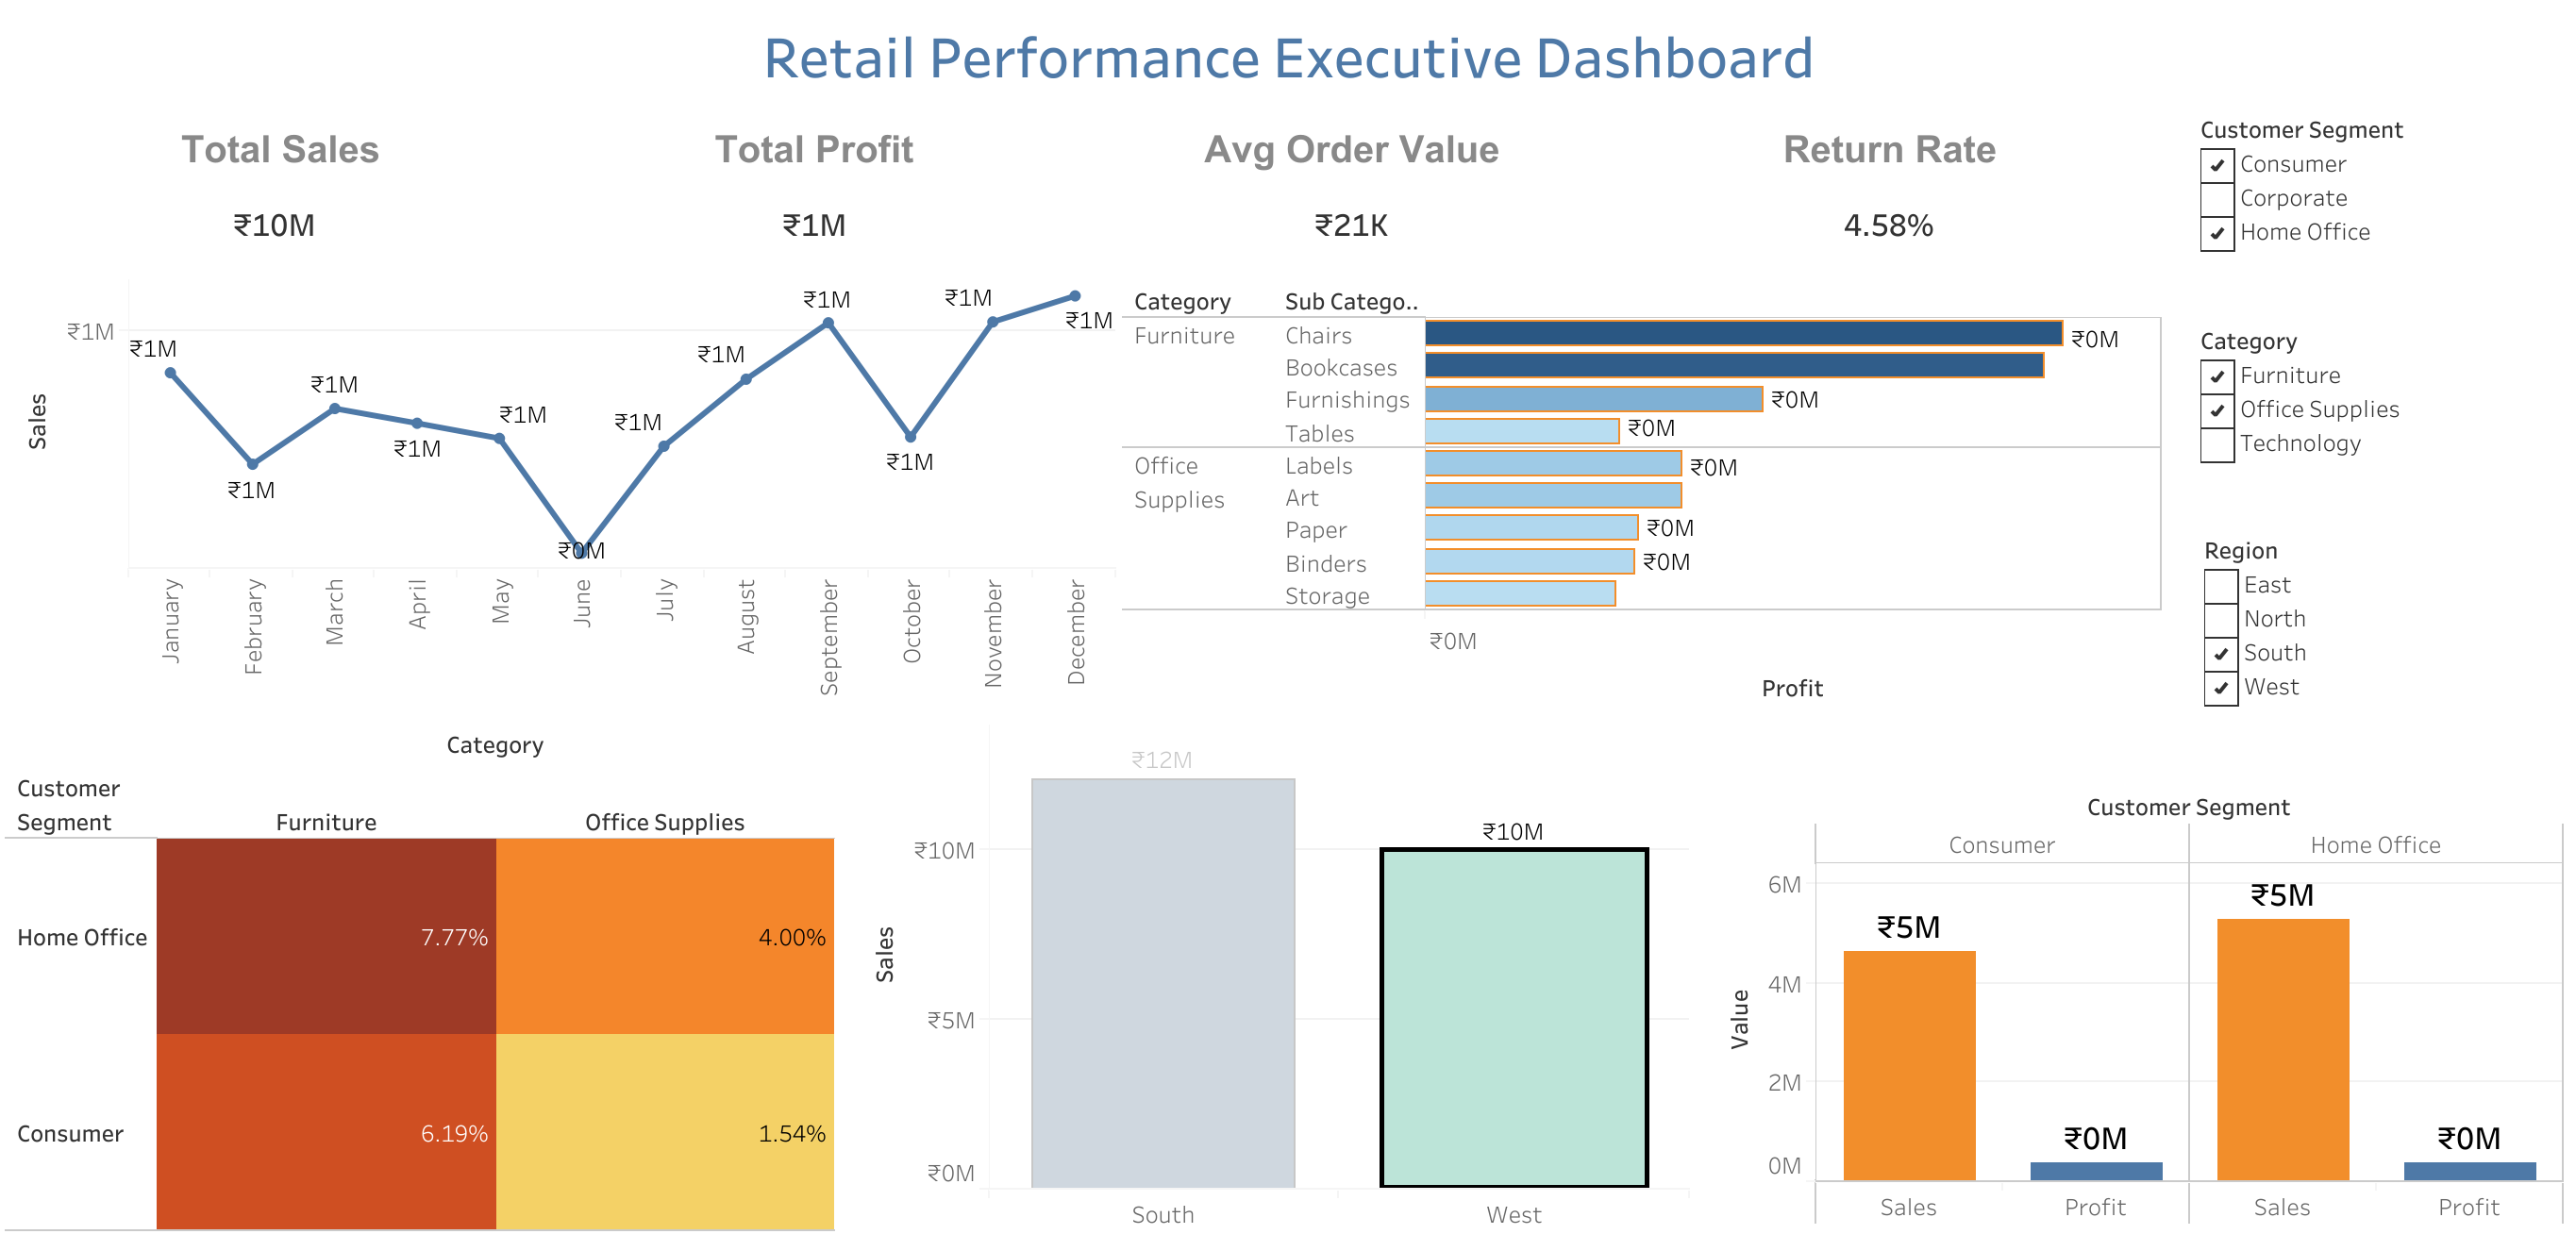

This screenshot's page, from the dashboard's own definition file:
{"tool":"tableau","page":{"name":"Executive Dashboard","canvas":[1000,1000],"units":"permille","ordinal":0},"visuals":[{"type":"title","box":[6.7,12.4,986.6,61.8]},{"type":"worksheet","title":"KPI - Total Sales","mark":"Automatic","box":[2.5,86.8,208.7,130.2]},{"type":"worksheet","title":"KPI - Total Profit","mark":"Automatic","box":[211.2,86.8,208.7,130.2]},{"type":"worksheet","title":"KPI - Average Order Value","mark":"Automatic","box":[419.9,86.8,208.7,130.2]},{"type":"worksheet","title":"KPI - Return Rate","mark":"Automatic","box":[628.6,86.8,208.7,130.2]},{"type":"filter","title":"Customer Segment View","param":"[federated.09ailrv18ro01p176qs0s0siuccw].[none:customer_segment:nk]","box":[853.3,88.4,134.1,162.8]},{"type":"worksheet","title":"Sales Trend View","mark":"Line","rows":["sales"],"cols":["order_date"],"box":[2.5,226.4,430,355]},{"type":"worksheet","title":"Category Profitability View","mark":"Automatic","rows":["category","sub_category"],"cols":["profit"],"box":[435.9,226.4,403.2,355]},{"type":"filter","title":"Return Analysis View","param":"[federated.09ailrv18ro01p176qs0s0siuccw].[none:category:nk]","box":[853.3,258.9,134.1,165.9]},{"type":"filter","title":"Regional Performance View","param":"[federated.09ailrv18ro01p176qs0s0siuccw].[none:region:nk]","box":[855,429.5,133.3,193.8]},{"type":"worksheet","title":"Return Analysis View","mark":"Square","rows":["customer_segment"],"cols":["category"],"box":[2.5,586.1,321.9,410.9]},{"type":"worksheet","title":"Regional Performance View","mark":"Bar","rows":["sales"],"cols":["region"],"box":[331.1,586.1,324.4,409.3]},{"type":"worksheet","title":"Customer Segment View","mark":"Automatic","cols":["customer_segment"],"box":[662.2,637.2,332.8,353.5]}]}

Visuals, with their boxes on the dashboard's canvas, which has no fixed pixel size, in thousandths of its width and height (x1, y1, x2, y2). These are canvas units, not pixel positions in the 2576x1234 screenshot, which may show the page scaled, cropped or inside an application window:
title: select_region(7, 12, 993, 74)
"KPI - Total Sales" worksheet: select_region(2, 87, 211, 217)
"KPI - Total Profit" worksheet: select_region(211, 87, 420, 217)
"KPI - Average Order Value" worksheet: select_region(420, 87, 629, 217)
"KPI - Return Rate" worksheet: select_region(629, 87, 837, 217)
"Customer Segment View" filter: select_region(853, 88, 987, 251)
"Sales Trend View" worksheet (Line marks): select_region(2, 226, 432, 581)
"Category Profitability View" worksheet: select_region(436, 226, 839, 581)
"Return Analysis View" filter: select_region(853, 259, 987, 425)
"Regional Performance View" filter: select_region(855, 430, 988, 623)
"Return Analysis View" worksheet (Square marks): select_region(2, 586, 324, 997)
"Regional Performance View" worksheet (Bar marks): select_region(331, 586, 656, 995)
"Customer Segment View" worksheet: select_region(662, 637, 995, 991)
